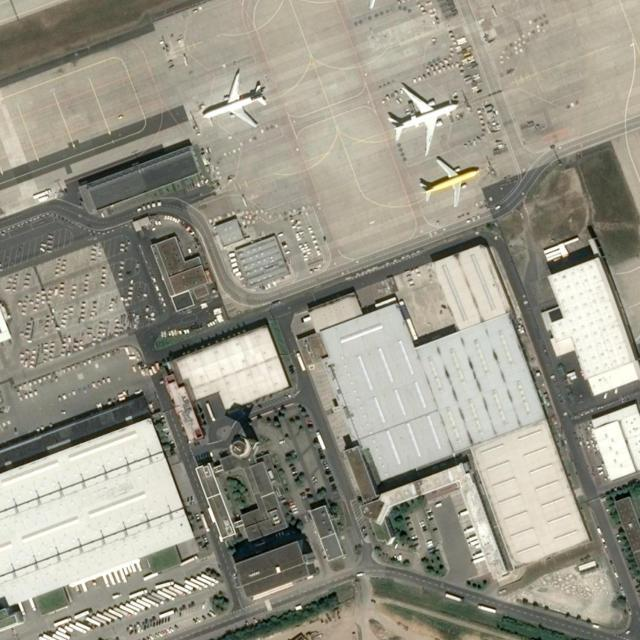Aircraft: (386, 85, 462, 151), (198, 70, 272, 132), (417, 160, 487, 208)
